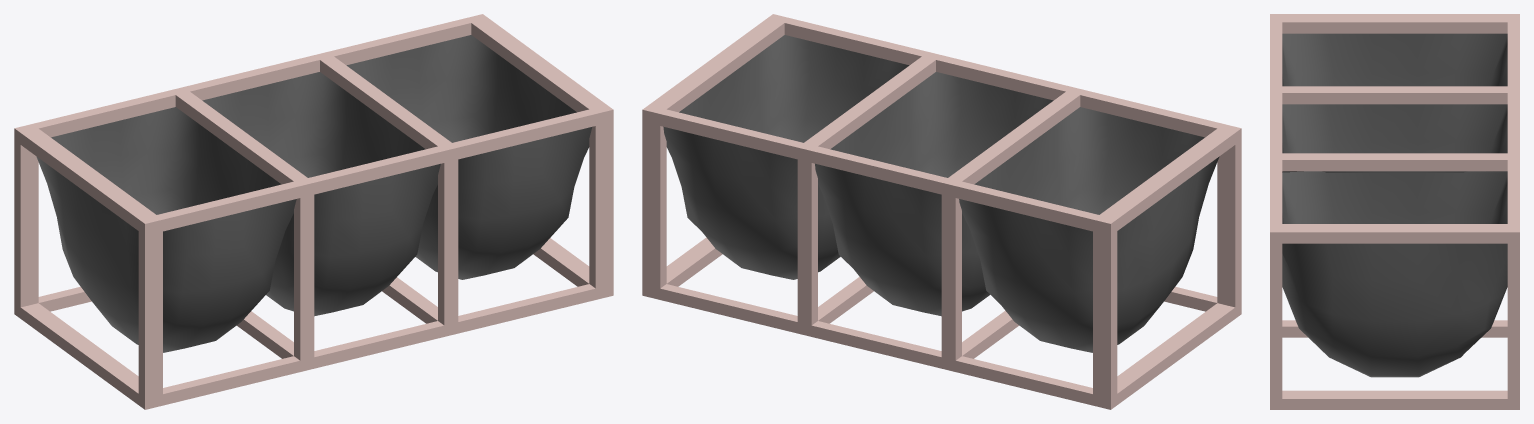
File: 3 Bags.fbx
3 views of the same model, side by side, from view 1: azimuth 30°, elevation 25°; view 2: azimuth 150°, elevation 25°; view 3: azimuth 270°, elevation 25° (orthographic). The views are drawn at different scales.
Parts seen in each view (by area): view 1: Cubo.038; view 2: Cubo.038; view 3: Cubo.038.
Boxes of the visible parts, x1,y1,x2,y2 form: Cubo.038: (14,14,613,409); Cubo.038: (642,14,1241,409); Cubo.038: (1270,14,1519,409).
Bounding box in the file's own units: 598 × 227 × 289.
